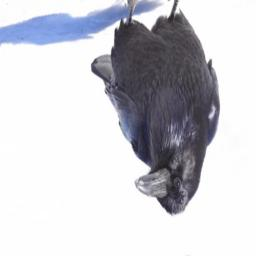Crow: (80, 0, 233, 236)
